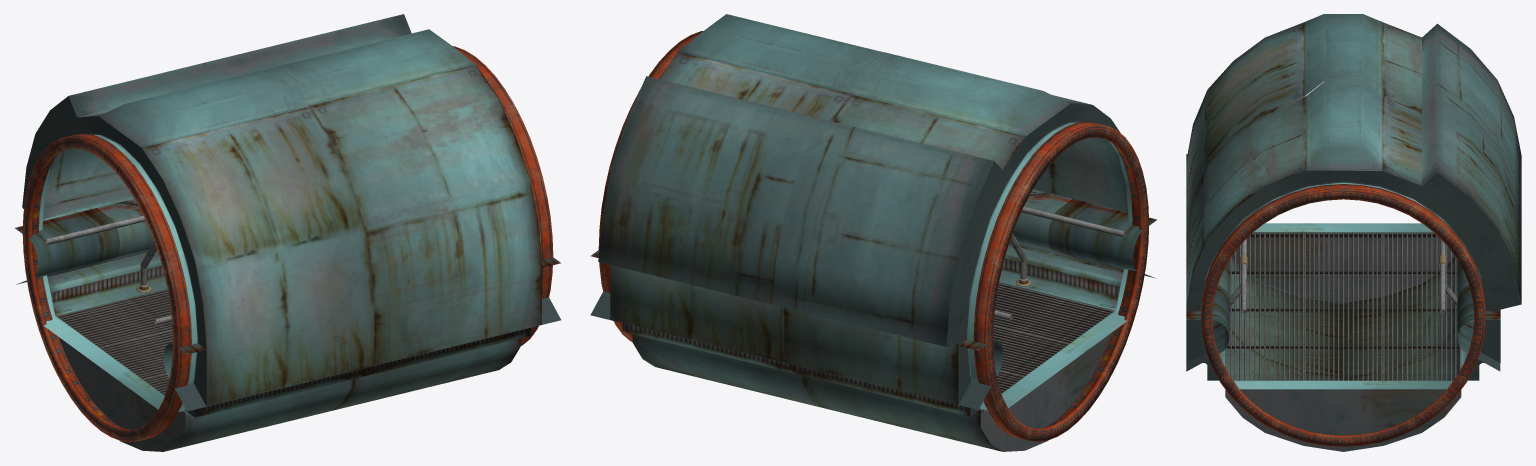
Rendered from tau_tunnel_straight_short.dae.
3 views of the same model, side by side, from view 1: azimuth 30°, elevation 25°; view 2: azimuth 150°, elevation 25°; view 3: azimuth 270°, elevation 25° (orthographic). The views are drawn at different scales.
Visible parts, largest first — view 1: polySurface465, pPipe67, polySurface464, polySurface237, pPipe66, polySurface236, polySurface456; view 2: polySurface465, pPipe67, polySurface464, polySurface235, polySurface236, pPipe66, polySurface456; view 3: polySurface465, pPipe66, polySurface236, polySurface237, polySurface235, polySurface464, polySurface456.
Part boxes in pixels (left/top/right/bottom): polySurface465: left=22, top=14, right=542, bottom=451; pPipe67: left=22, top=133, right=191, bottom=442; polySurface464: left=15, top=198, right=560, bottom=411; polySurface237: left=56, top=289, right=172, bottom=347; pPipe66: left=452, top=46, right=553, bottom=345; polySurface236: left=100, top=330, right=172, bottom=379; polySurface456: left=44, top=215, right=171, bottom=325; polySurface465: left=598, top=14, right=1132, bottom=451; pPipe67: left=973, top=121, right=1149, bottom=441; polySurface464: left=590, top=189, right=1156, bottom=409; polySurface235: left=993, top=283, right=1113, bottom=343; polySurface236: left=993, top=325, right=1068, bottom=376; pPipe66: left=598, top=31, right=702, bottom=341; polySurface456: left=994, top=206, right=1126, bottom=320; polySurface465: left=1186, top=14, right=1521, bottom=451; pPipe66: left=1201, top=184, right=1485, bottom=446; polySurface236: left=1304, top=232, right=1382, bottom=380; polySurface237: left=1382, top=232, right=1461, bottom=380; polySurface235: left=1225, top=232, right=1304, bottom=380; polySurface464: left=1186, top=154, right=1500, bottom=371; polySurface456: left=1229, top=238, right=1457, bottom=314.
Size of the model in its own units: 5 by 4.17 by 4.27.
